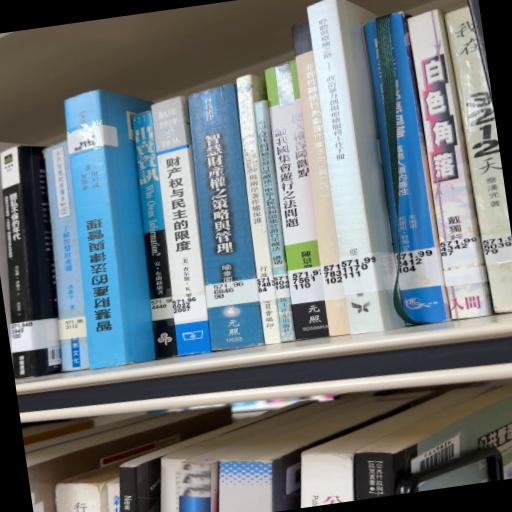reverse: (66, 91, 156, 370)
